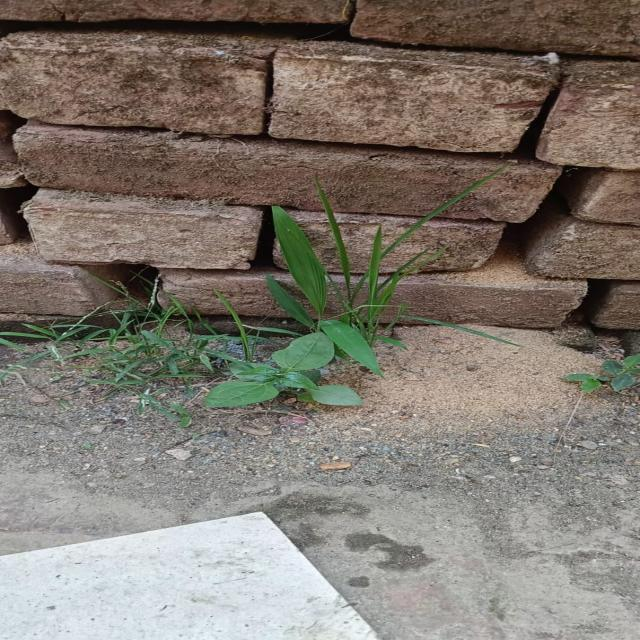plant: (203, 277, 381, 407), (271, 207, 329, 315)
